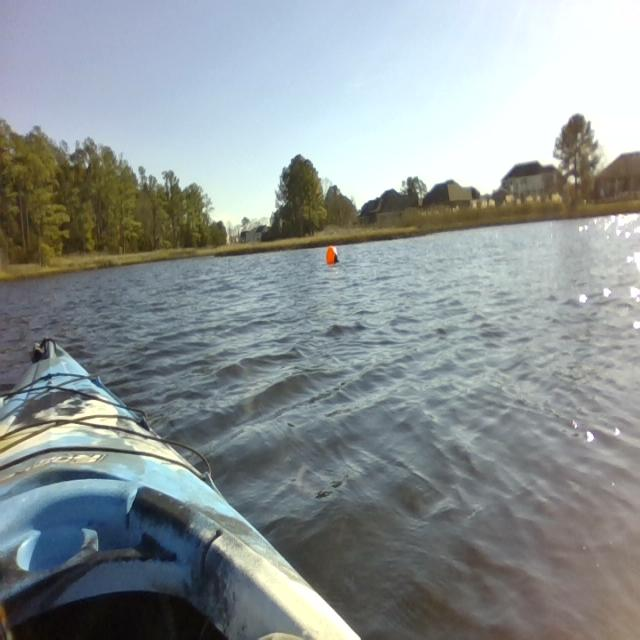Buoy: (324, 242, 341, 269)
